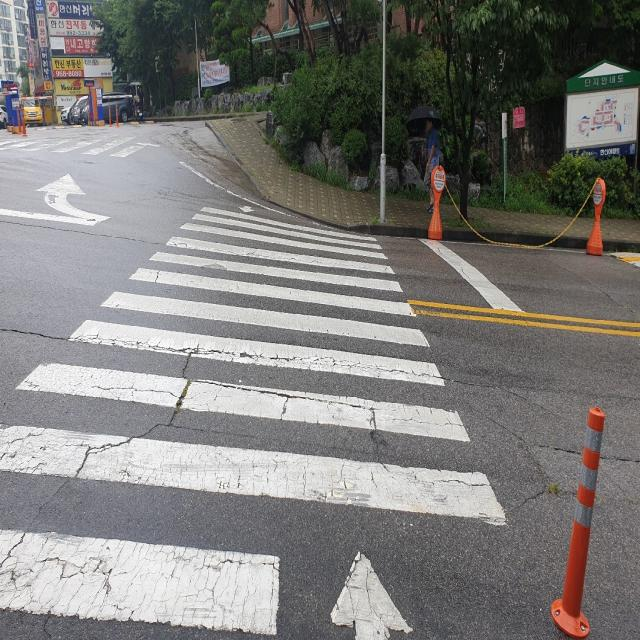횡단보도: (0, 196, 510, 633)
